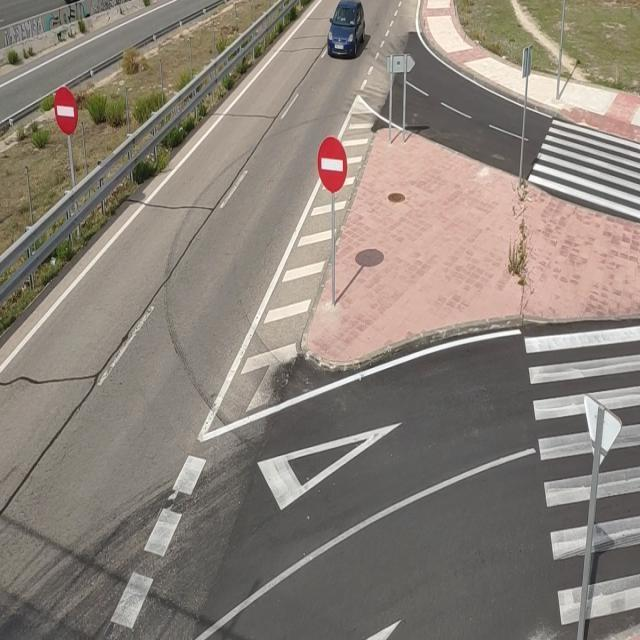Car: (326, 0, 369, 60)
